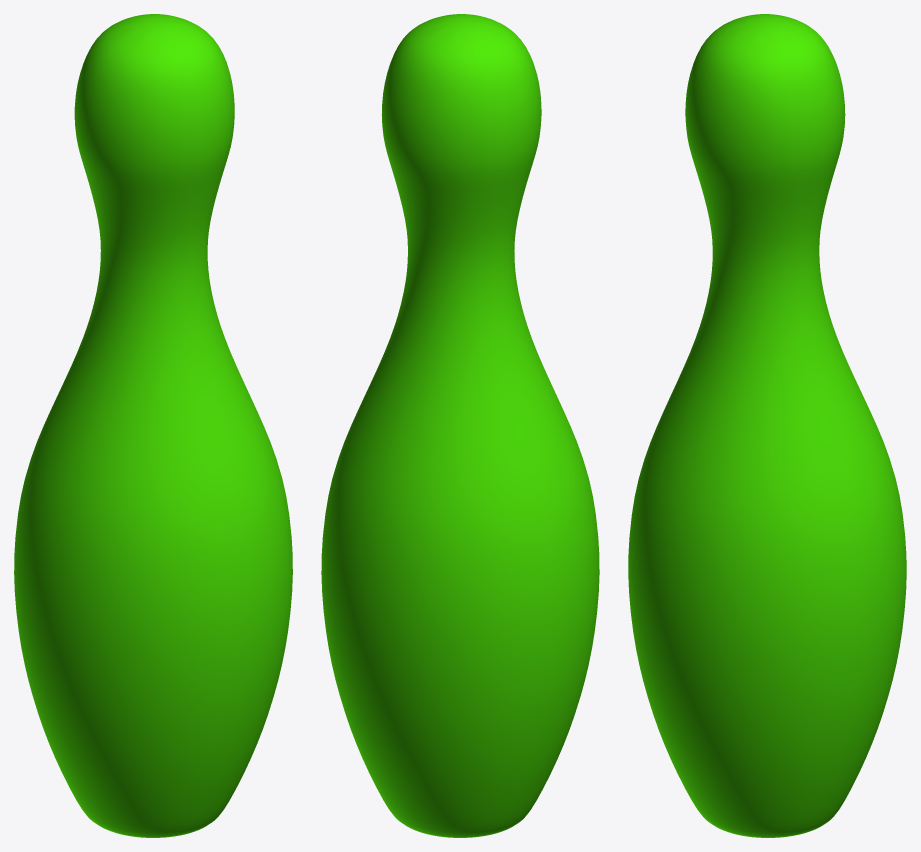
Rendered from YellowPin.gltf.
3 renders of one model, left to right at view 1: azimuth 30°, elevation 25°; view 2: azimuth 150°, elevation 25°; view 3: azimuth 270°, elevation 25°, orthographic.
Parts seen in each view (by area): view 1: Textured_Pin; view 2: Textured_Pin; view 3: Textured_Pin.
Part boxes in pixels (x1=…): Textured_Pin: x1=14, y1=14, x2=292, y2=837; Textured_Pin: x1=321, y1=14, x2=599, y2=837; Textured_Pin: x1=628, y1=14, x2=906, y2=837.
Size of the model in its own units: 12.09 by 37.88 by 12.08.
